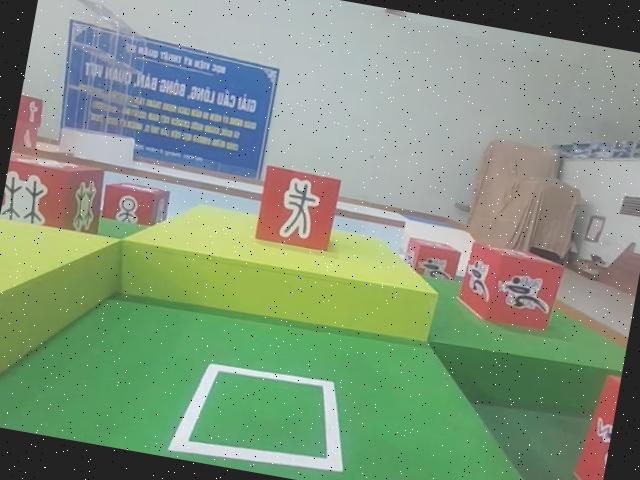R1: (451, 236, 569, 338), (567, 362, 623, 480), (399, 232, 468, 287)
R2 Fake: (249, 160, 350, 258)
R2 Real: (0, 146, 108, 242), (96, 177, 173, 236)
